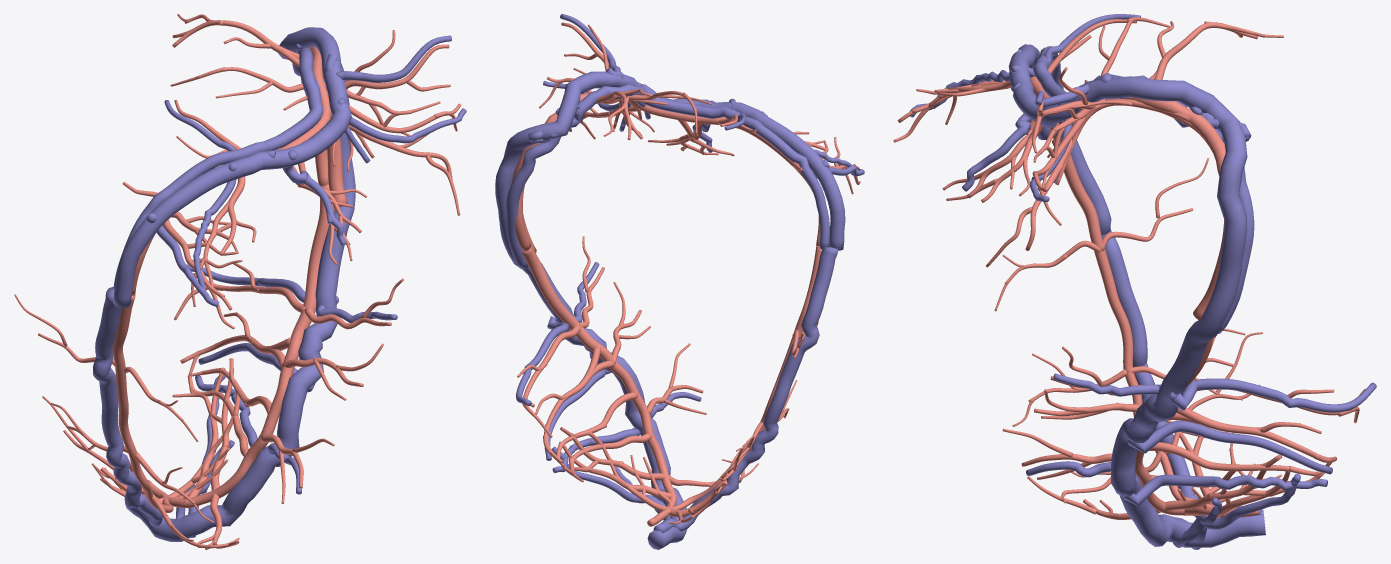
The model's file is vessels_71.glb.
3 renders of one model, left to right at view 1: azimuth 30°, elevation 25°; view 2: azimuth 150°, elevation 25°; view 3: azimuth 270°, elevation 25°, orthographic. The views are drawn at different scales.
Visible parts, largest first — view 1: Renderer Node; view 2: Renderer Node; view 3: Renderer Node.
Boxes of the visible parts, x1,y1,x2,y2 form: Renderer Node: [14, 14, 466, 549]; Renderer Node: [495, 14, 864, 549]; Renderer Node: [893, 14, 1376, 549].
Size of the model in its own units: 95.17 by 124 by 95.67.
